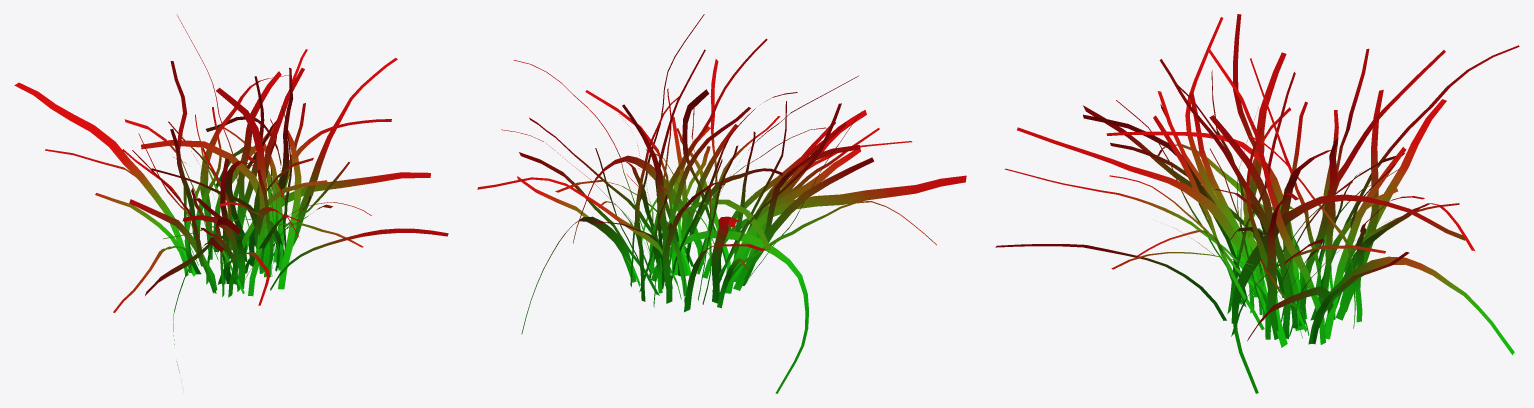
File: Wheat_LOD0_Var6_smdoejyr.fbx
The picture shows the model from 3 angles, left to right: view 1: azimuth 30°, elevation 25°; view 2: azimuth 150°, elevation 25°; view 3: azimuth 270°, elevation 25°; orthographic projection. The views are drawn at different scales.
Visible parts, largest first — view 1: _6jy2_Var6_LOD0; view 2: _6jy2_Var6_LOD0; view 3: _6jy2_Var6_LOD0.
Part boxes in pixels (bbox=[...]): _6jy2_Var6_LOD0: bbox=[14, 14, 448, 389]; _6jy2_Var6_LOD0: bbox=[477, 14, 966, 393]; _6jy2_Var6_LOD0: bbox=[995, 14, 1519, 393].
Bounding box in the file's own units: 34.59 × 29.78 × 35.52.
